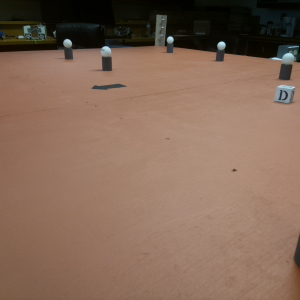obstacle: (280, 52, 294, 82), (100, 45, 113, 71), (63, 37, 72, 60), (217, 41, 226, 61), (167, 36, 174, 53)
